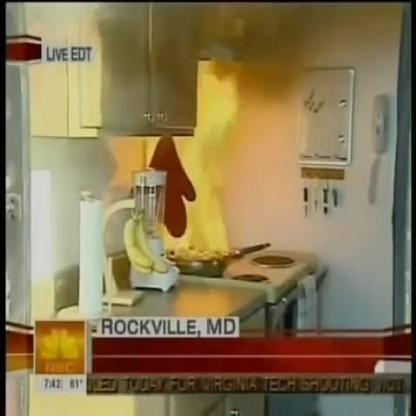fire: (175, 134, 230, 258)
